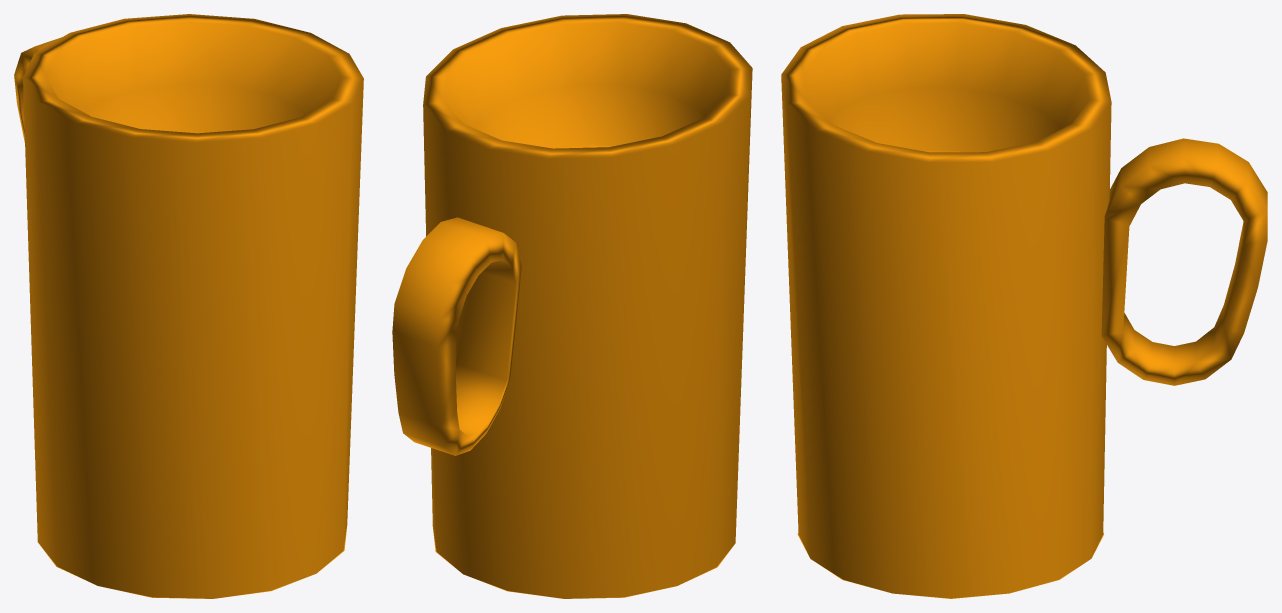
File: Taza03.fbx
3 views of the same model, side by side, from view 1: azimuth 30°, elevation 25°; view 2: azimuth 150°, elevation 25°; view 3: azimuth 270°, elevation 25° (orthographic). The views are drawn at different scales.
Parts seen in each view (by area): view 1: Taza03; view 2: Taza03; view 3: Taza03.
Part boxes in pixels (x1,y1,x2,y2): Taza03: [14, 14, 363, 598]; Taza03: [392, 14, 752, 598]; Taza03: [781, 14, 1267, 598].
Size of the model in its own units: 13.33 by 20.16 by 19.64.
